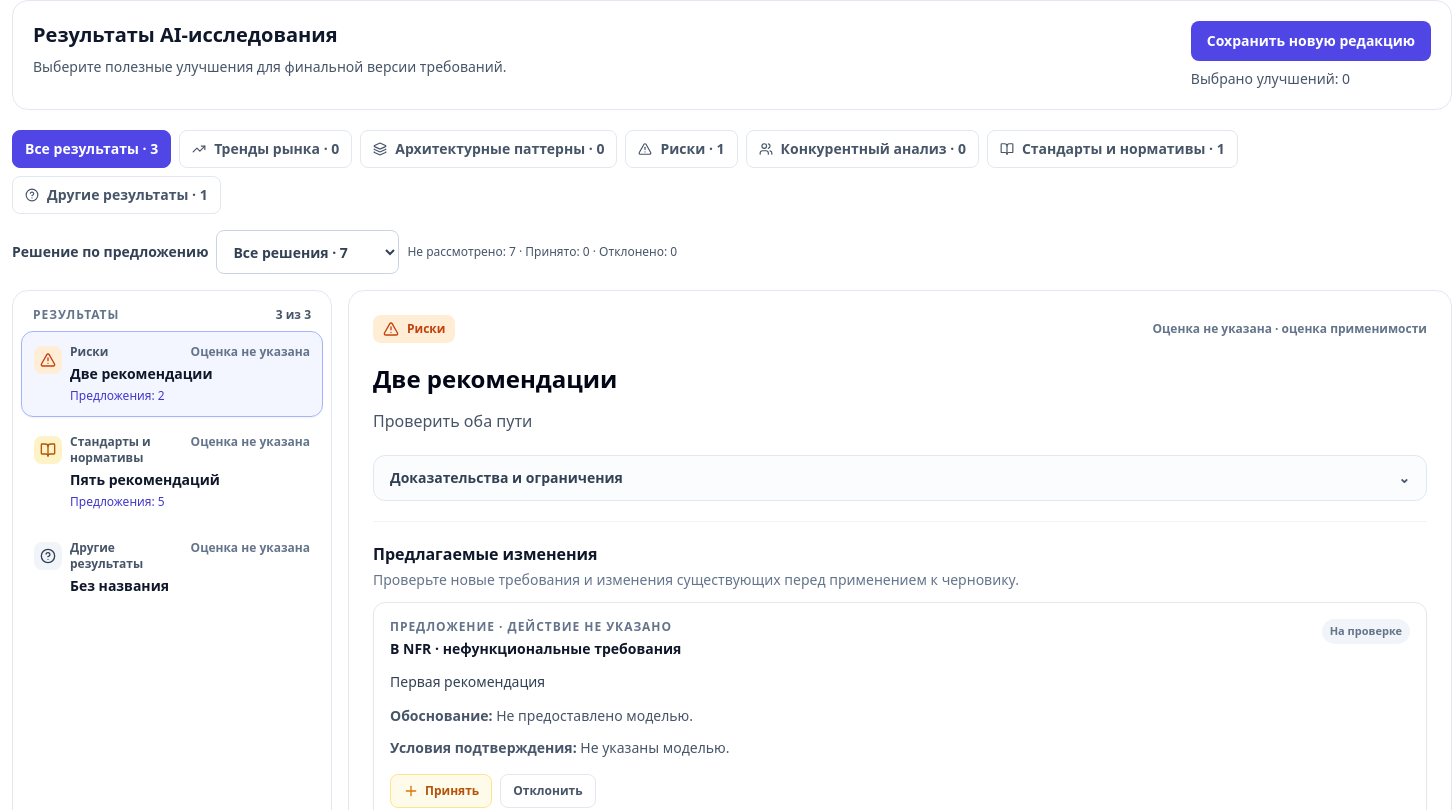
Test: AsyncJobWorkspace presentational branches › renders empty and plural BABOK research cards with metadata fallbacks
The width and height of the screenshot is (1452, 810).
Expected: the button "Стандарты и нормативы · 1" is shown, [987,130,1238,168]
Expected: the button "Другие результаты · 1" is shown, [12,176,221,214]
Click the button "Риски · 1": (681, 149) [625,130,738,168]
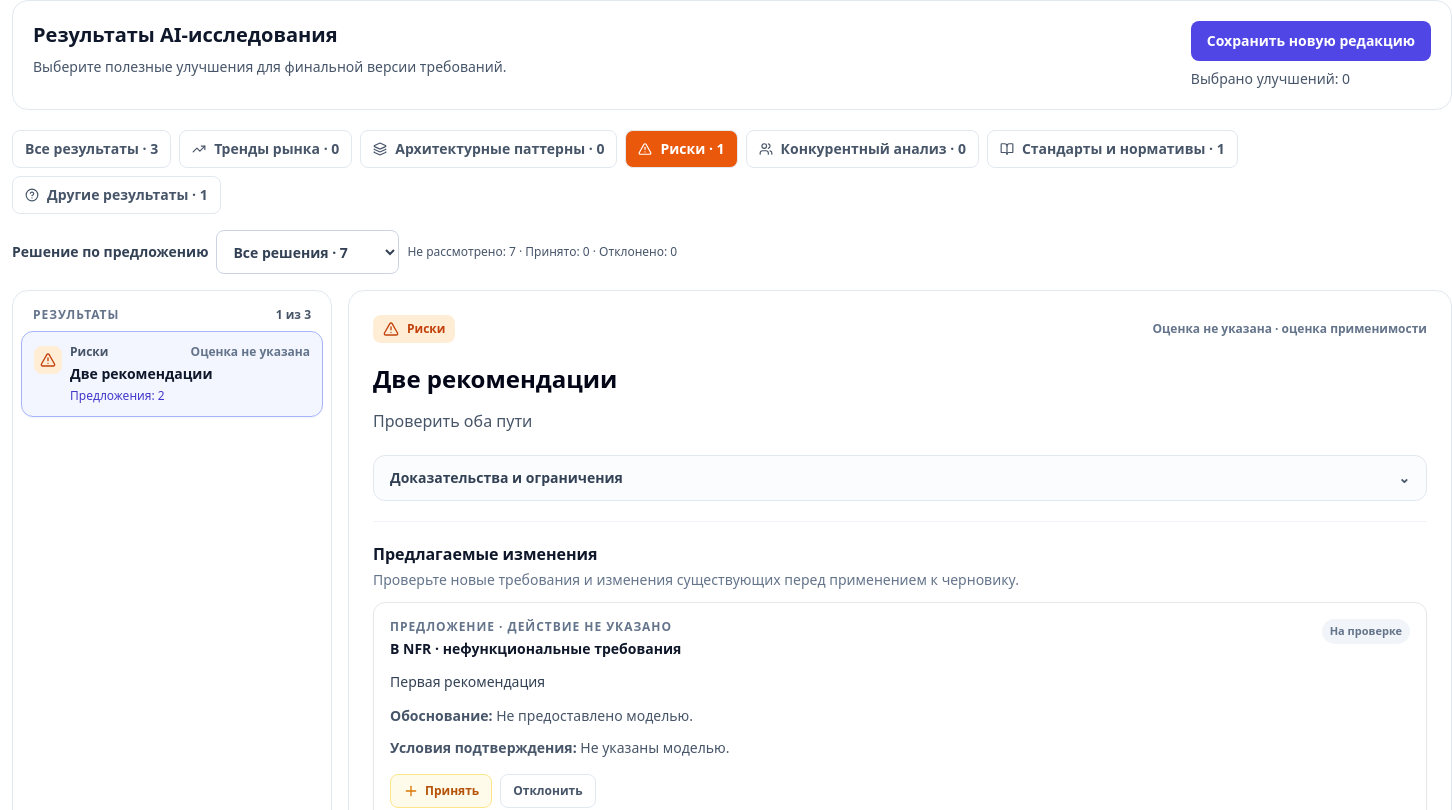
Expected: the heading "Две рекомендации" is shown, [373,362,617,395]
Now the button "Пять рекомендаций" is gone
Click the button "Стандарты и нормативы · 1": (1112, 149) [987,130,1238,168]
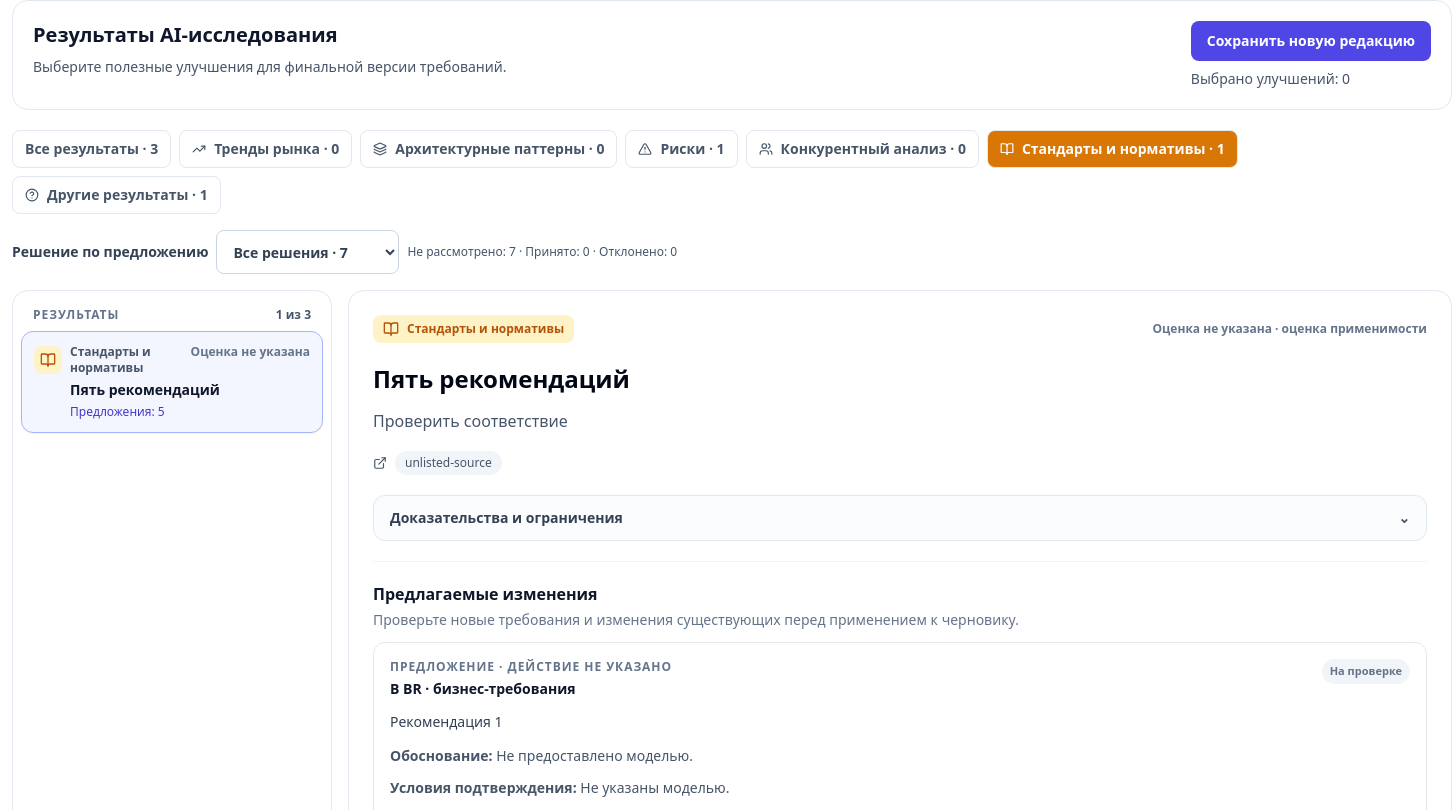
Now the text "В BR · бизнес-требования" is shown 5 times
Now the heading "Пять рекомендаций" is shown, box [373,362,630,395]
